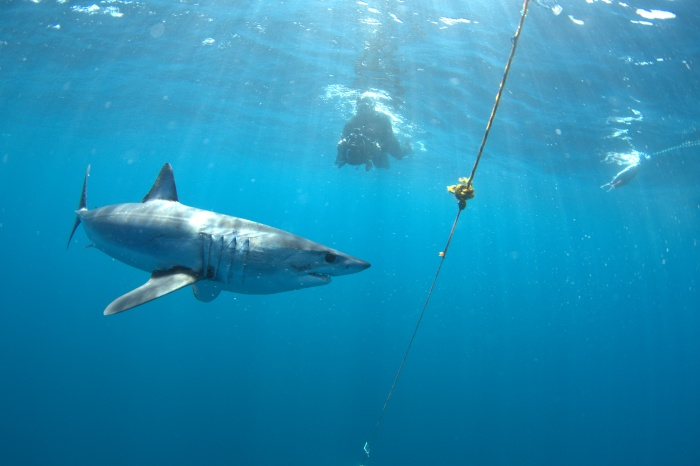Mako: (44, 150, 381, 338)
